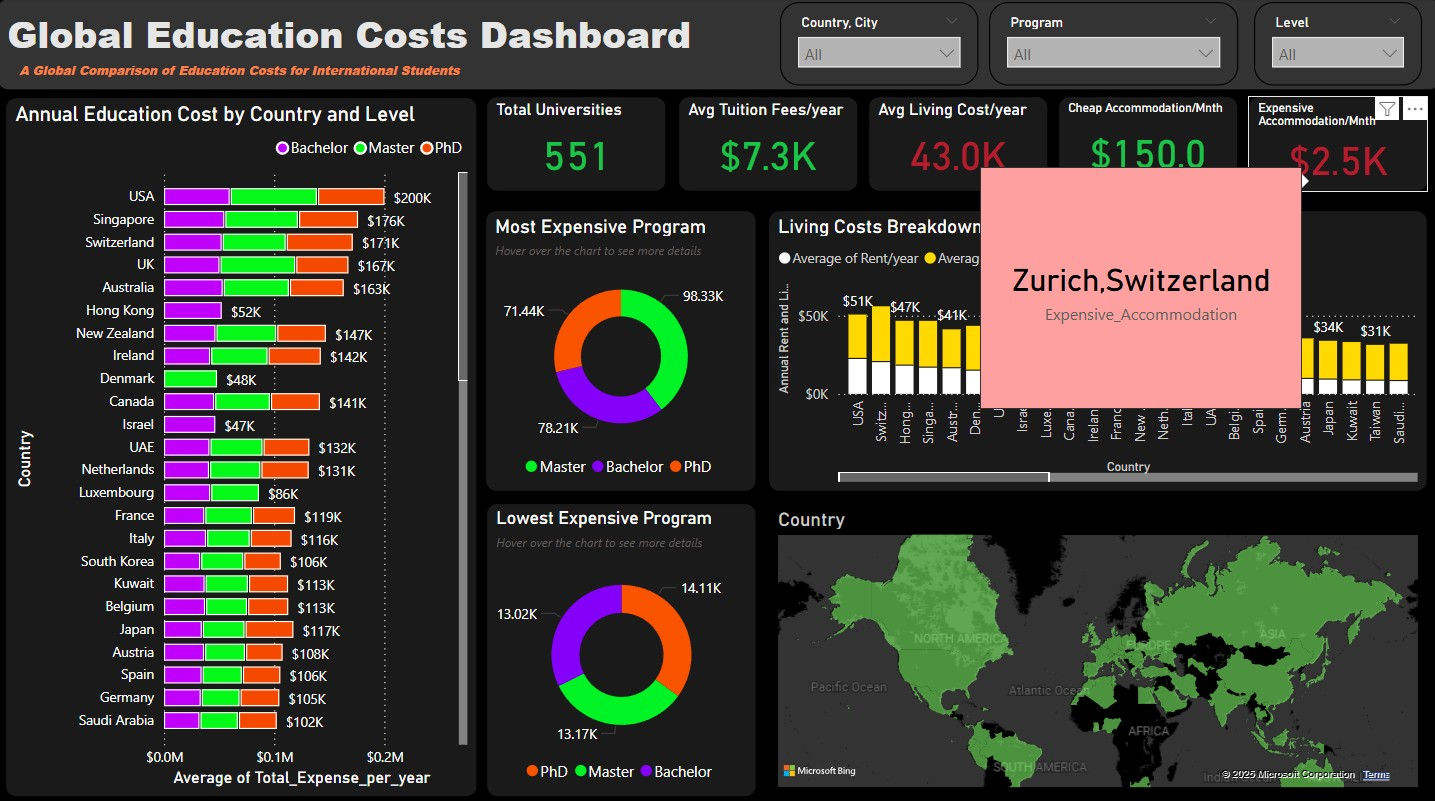

The page's visual inventory and layout, read from the dashboard file:
{"tool":"powerbi","page":{"name":"Overview","canvas":[1280,720],"ordinal":0},"visuals":[{"type":"card","title":"Avg Tuition Fees/year","fields":{"Values":["Avg(Cleaned_International_edu_cost.Tuition_fees_per_year)"]},"box":[603.8,86.9,159.6,85],"z":0},{"type":"textbox","box":[0,0,1280.4,81.6],"z":1000},{"type":"slicer","fields":{"Values":["Cleaned_International_edu_cost.Program"]},"box":[879.6,3.5,220.8,73.6],"z":2000},{"type":"columnChart","title":"Living Costs Breakdown","fields":{"Category":["Cleaned_International_edu_cost.Country"],"Y":["Avg(Cleaned_International_edu_cost.Rent/year)","Avg(Cleaned_International_edu_cost.Living_Exp/year)"]},"box":[683.6,188,585.2,250],"z":3000},{"type":"slicer","fields":{"Values":["Cleaned_International_edu_cost.Country","Cleaned_International_edu_cost.City"]},"box":[694.3,3.5,176.5,73.6],"z":4000},{"type":"slicer","fields":{"Values":["Cleaned_International_edu_cost.Level"]},"box":[1114.6,3.5,149,73.6],"z":5000},{"type":"card","title":"Avg Living Cost/year","fields":{"Values":["Avg(Cleaned_International_edu_cost.Total_Expense_per_year)"]},"box":[772.3,86.9,159.6,85.1],"z":6000},{"type":"card","title":"Total Universities","fields":{"Values":["Count(Cleaned_International_edu_cost.University)"]},"box":[433.6,86.9,160,85],"z":7000},{"type":"barChart","title":"Annual Education Cost by Country and Level","fields":{"Category":["Cleaned_International_edu_cost.Country"],"Y":["Avg(Cleaned_International_edu_cost.Total_Expense_per_year)"],"Series":["Cleaned_International_edu_cost.Level"]},"box":[7.1,87.8,419.4,620.7],"z":8000},{"type":"card","title":"Cheap Accommodation/Mnth","fields":{"Values":["Min(Cleaned_International_edu_cost.Rent_USD)"]},"box":[940.8,86.9,159.6,85.1],"z":9000},{"type":"card","title":"Expensive Accommodation/Mnth","fields":{"Values":["Max(Cleaned_International_edu_cost.Rent_USD)"]},"box":[1109.3,86.9,159.6,85],"z":10000},{"type":"donutChart","title":"Most Expensive Program","fields":{"Category":["Cleaned_International_edu_cost.Level"],"Y":["Max(Cleaned_International_edu_cost.Total_Expense_per_year)"]},"box":[432.7,188,241.2,250],"z":11000},{"type":"donutChart","title":"Lowest Expensive Program","fields":{"Category":["Cleaned_International_edu_cost.Level"],"Y":["Min(Cleaned_International_edu_cost.Total_Expense_per_year)"]},"box":[433.6,447.8,240.3,260.7],"z":12000},{"type":"filledMap","fields":{"Category":["Cleaned_International_edu_cost.Country"]},"box":[683.6,447.8,585.2,260.7],"z":13000}]}

Visuals, with their boxes in screenshot pixels (x1, y1, x2, y2), scaled from the page's 1280x720 canvas onto the 1435x801 screenshot:
"Avg Tuition Fees/year" card: rect(677, 97, 856, 191)
textbox: rect(0, 0, 1434, 91)
slicer - Cleaned_International_edu_cost.Program: rect(986, 4, 1234, 86)
"Living Costs Breakdown" columnChart: rect(766, 209, 1422, 487)
slicer - Cleaned_International_edu_cost.Country x Cleaned_International_edu_cost.City: rect(778, 4, 976, 86)
slicer - Cleaned_International_edu_cost.Level: rect(1250, 4, 1417, 86)
"Avg Living Cost/year" card: rect(866, 97, 1045, 191)
"Total Universities" card: rect(486, 97, 665, 191)
"Annual Education Cost by Country and Level" barChart: rect(8, 98, 478, 788)
"Cheap Accommodation/Mnth" card: rect(1055, 97, 1234, 191)
"Expensive Accommodation/Mnth" card: rect(1244, 97, 1423, 191)
"Most Expensive Program" donutChart: rect(485, 209, 756, 487)
"Lowest Expensive Program" donutChart: rect(486, 498, 756, 788)
filledMap - Cleaned_International_edu_cost.Country: rect(766, 498, 1422, 788)
